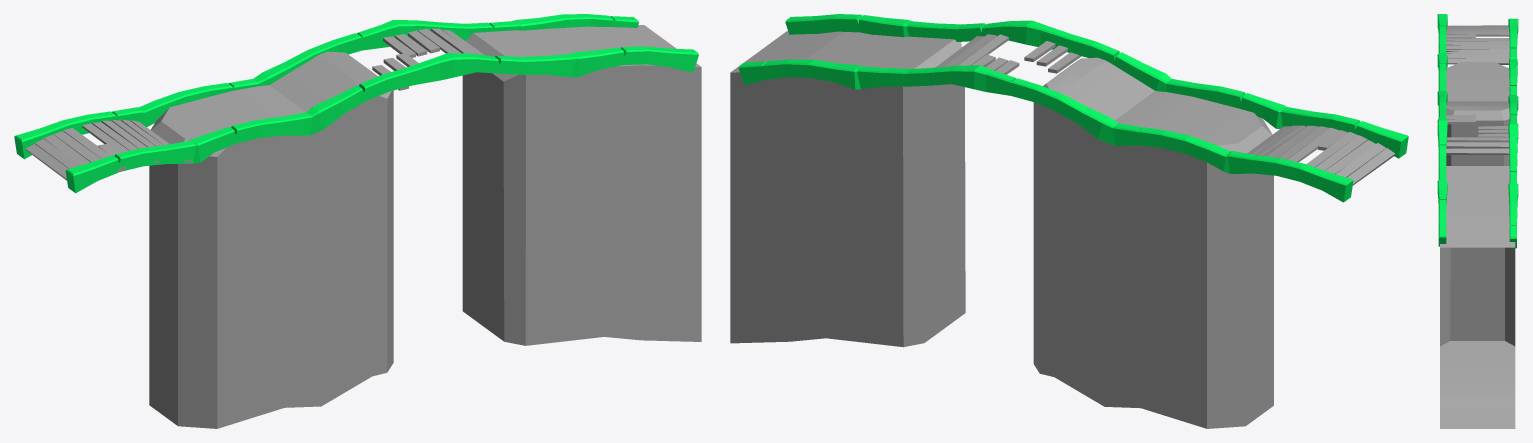
The model's file is Bridge.fbx.
3 renders of one model, left to right at view 1: azimuth 30°, elevation 25°; view 2: azimuth 150°, elevation 25°; view 3: azimuth 270°, elevation 25°, orthographic. The views are drawn at different scales.
Visible parts, largest first — view 1: Piedra, Piedra1, Viga; view 2: Piedra, Piedra1, Viga; view 3: Piedra1, Piedra, Viga, polySurface31, polySurface30, polySurface11, polySurface29, polySurface12, polySurface13, polySurface10, polySurface9, polySurface6 (+11 smaller).
Part boxes in pixels (x1,y1,x2,y2): Piedra: (149,51,393,428); Piedra1: (462,25,701,345); Viga: (14,14,698,193); Piedra: (1033,57,1273,428); Piedra1: (730,31,965,347); Viga: (738,14,1408,202); Piedra1: (1440,166,1515,428); Piedra: (1446,62,1509,165); Viga: (1437,14,1518,248); polySurface31: (1446,148,1509,154); polySurface30: (1446,142,1509,148); polySurface11: (1446,53,1509,58); polySurface29: (1446,137,1508,142); polySurface12: (1446,49,1509,53); polySurface13: (1447,58,1509,64); polySurface10: (1446,44,1509,49); polySurface9: (1446,41,1509,45); polySurface6: (1446,32,1509,36).
Bounding box in the file's own units: 43.59 × 22.87 × 7.36.
